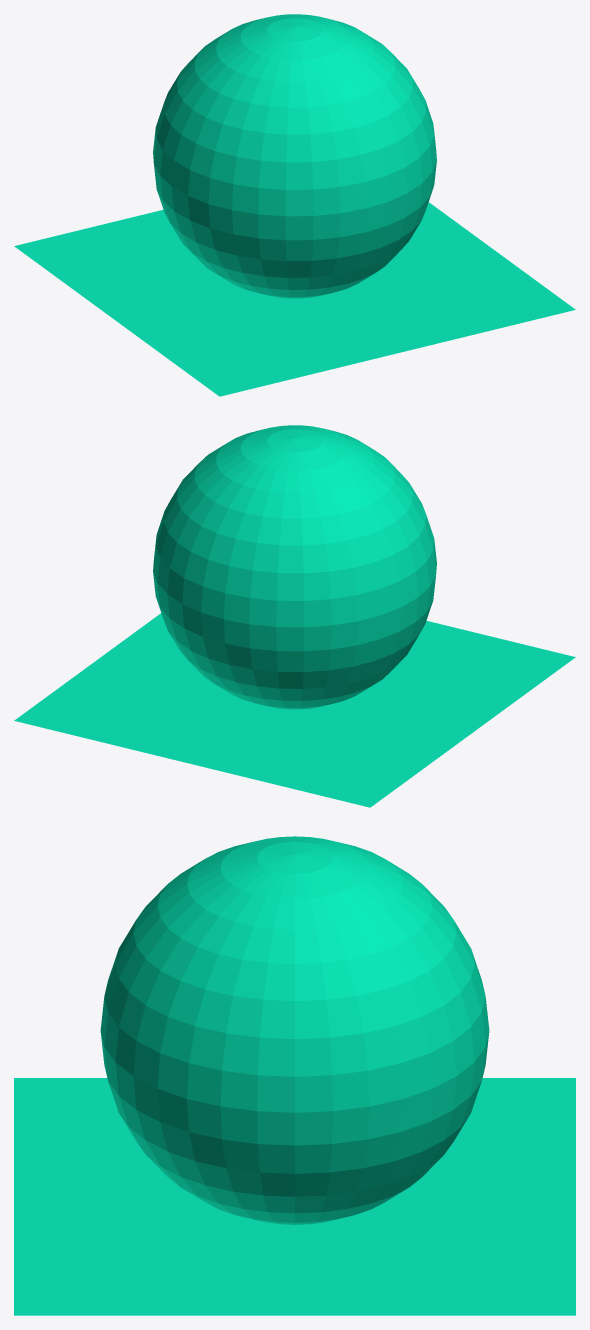
File: GAD315.1.fbx
The picture shows the model from 3 angles, top to bottom: view 1: azimuth 30°, elevation 25°; view 2: azimuth 150°, elevation 25°; view 3: azimuth 270°, elevation 25°; orthographic projection. The views are drawn at different scales.
Visible parts, largest first — view 1: Sphere, Plane; view 2: Sphere, Plane; view 3: Sphere, Plane.
Part boxes in pixels (left/top/right/bottom): Sphere: left=153, top=14, right=436, bottom=298; Plane: left=14, top=202, right=575, bottom=396; Sphere: left=153, top=425, right=436, bottom=709; Plane: left=14, top=613, right=575, bottom=807; Sphere: left=100, top=836, right=489, bottom=1224; Plane: left=14, top=1078, right=575, bottom=1315.
Size of the model in its own units: 1000 by 692 by 1000.
